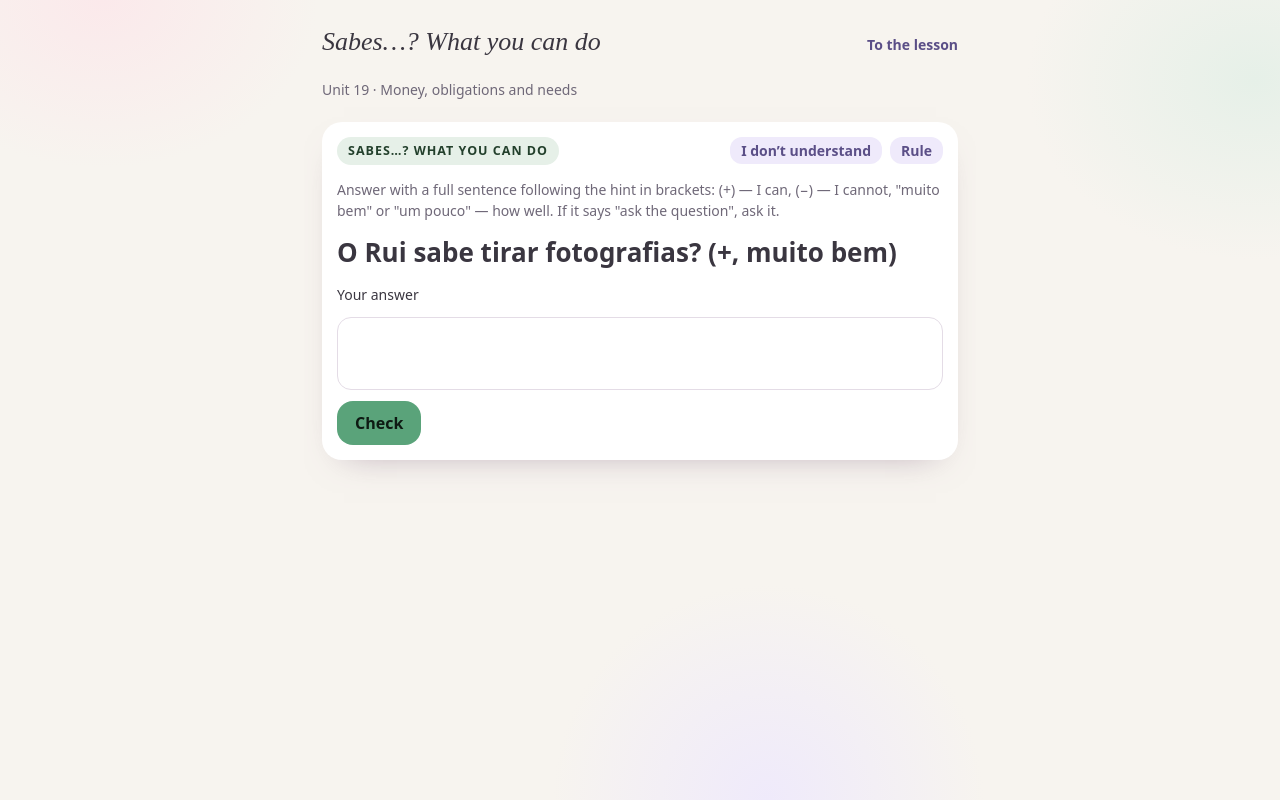
Test: choose exercises › many accepted answers wait behind a toggle; one or two stay inline
In the text box with test id "pack-drill-answer": (640, 353) [337,316,943,390], type "x"
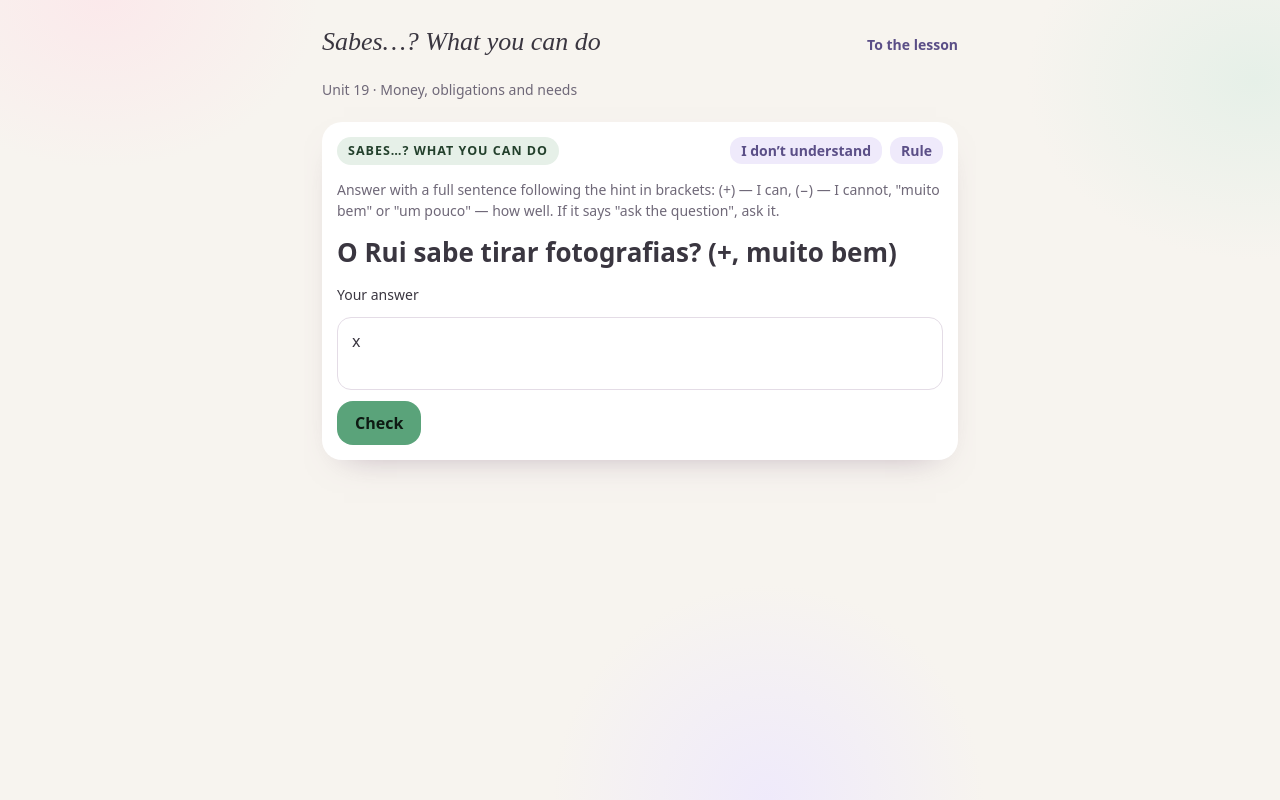
Click the button "Check": (379, 423) [337,401,421,445]
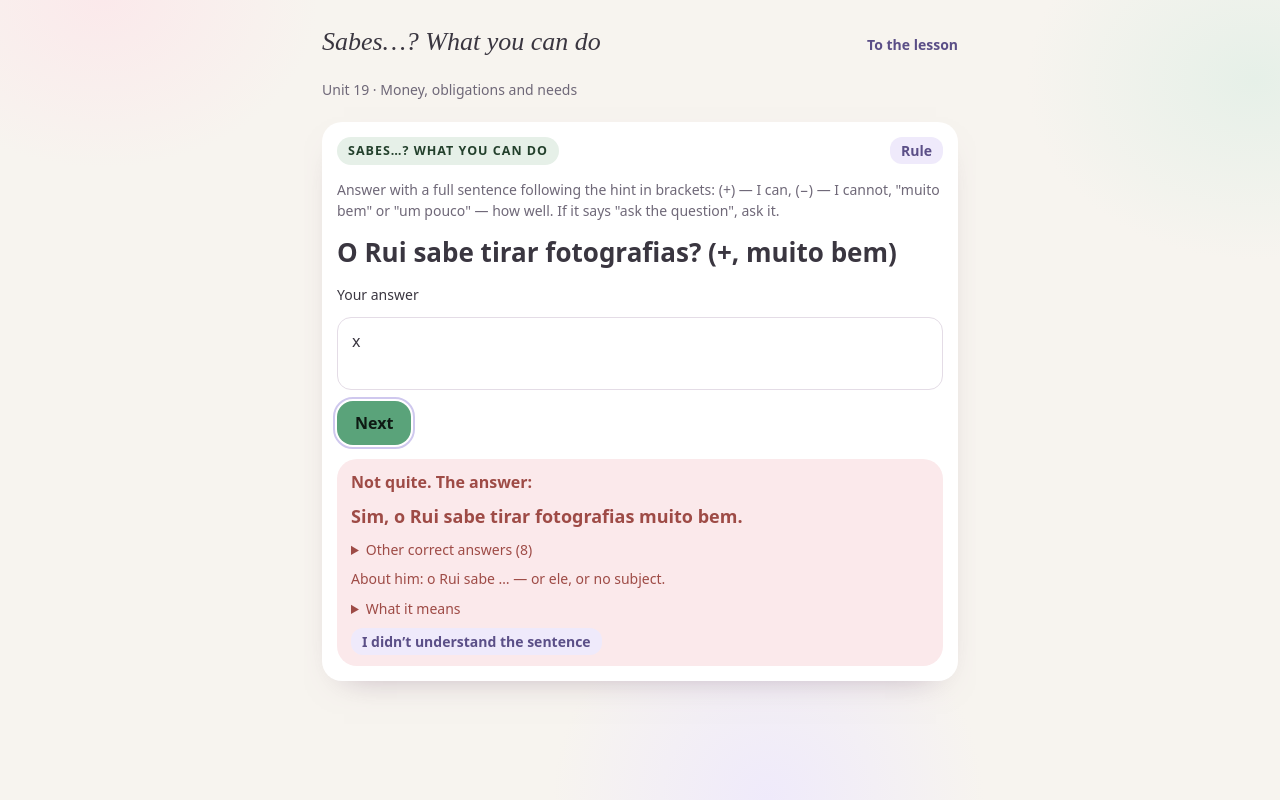
Expected: the message with test id "pack-drill-feedback" is shown, [337,459,943,666]
